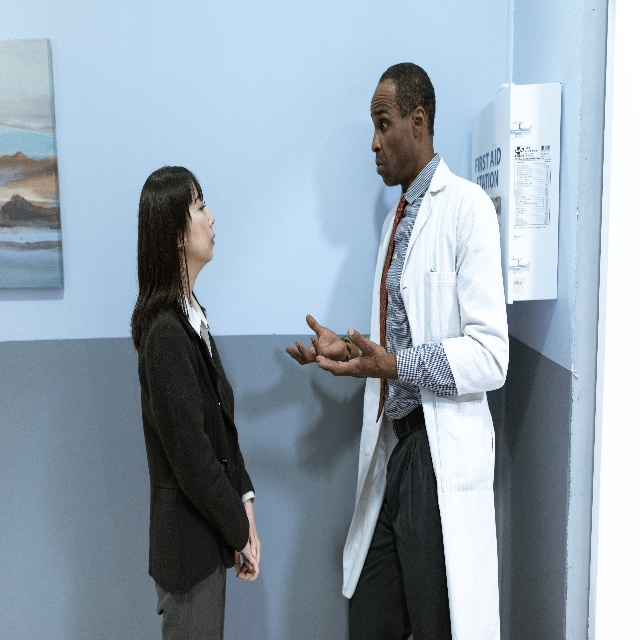Sin_guantes: (316, 327, 391, 378), (284, 311, 347, 369), (234, 538, 259, 583), (242, 513, 260, 574)
